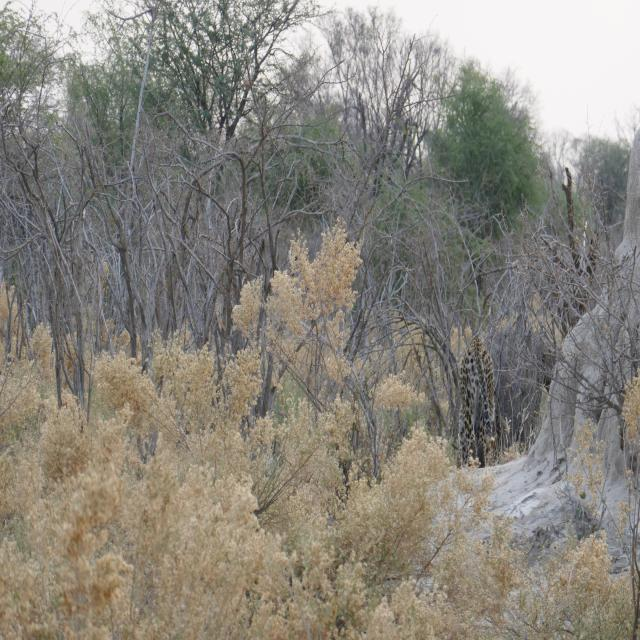Leopard: (446, 335, 496, 473)
